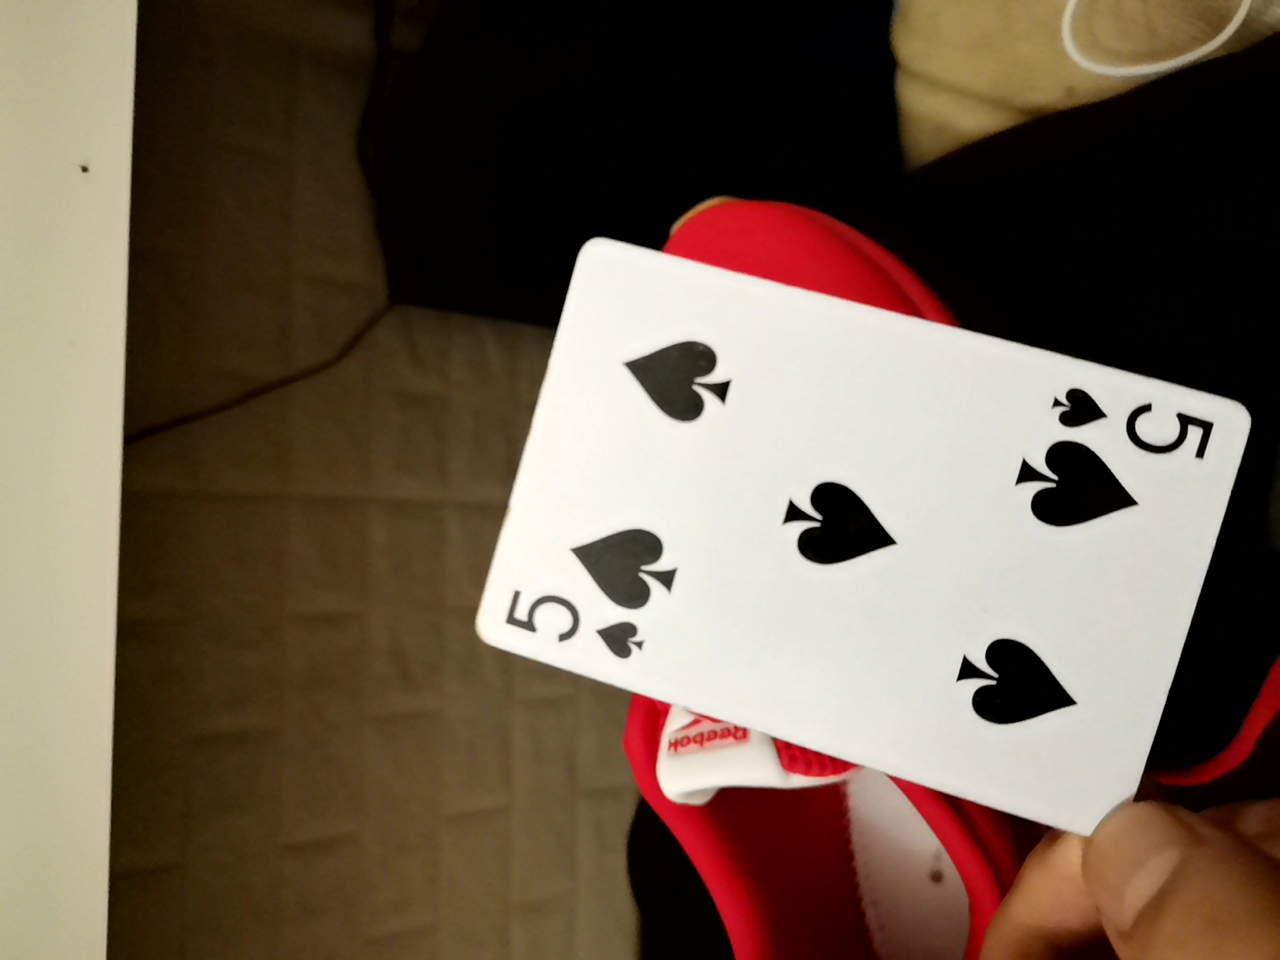ht 5: (482, 273, 1219, 831)
